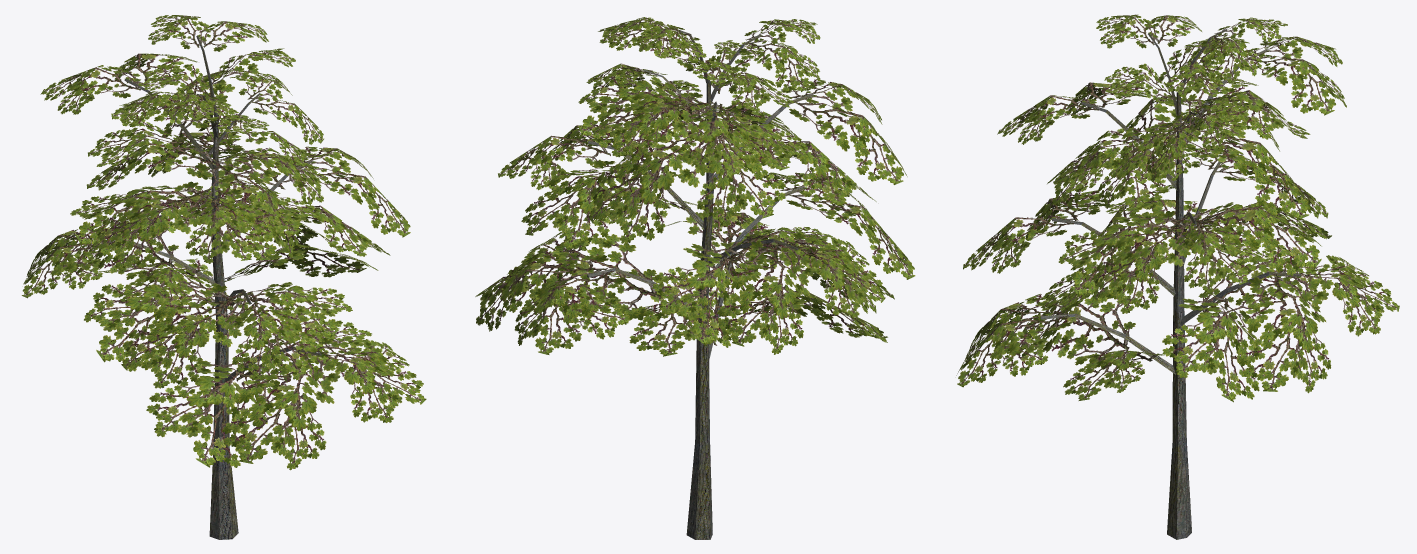
File: maple_v2.glb
3 renders of one model, left to right at view 1: azimuth 30°, elevation 25°; view 2: azimuth 150°, elevation 25°; view 3: azimuth 270°, elevation 25°, orthographic. The views are drawn at different scales.
Parts seen in each view (by area): view 1: maple_b; view 2: maple_b; view 3: maple_b.
Part boxes in pixels (x1,y1,x2,y2): maple_b: (21, 15, 426, 539); maple_b: (475, 17, 915, 539); maple_b: (956, 14, 1399, 539).
Bounding box in the file's own units: 14.9 × 19.92 × 16.01.
Materials: 1 (1 with a texture image).
